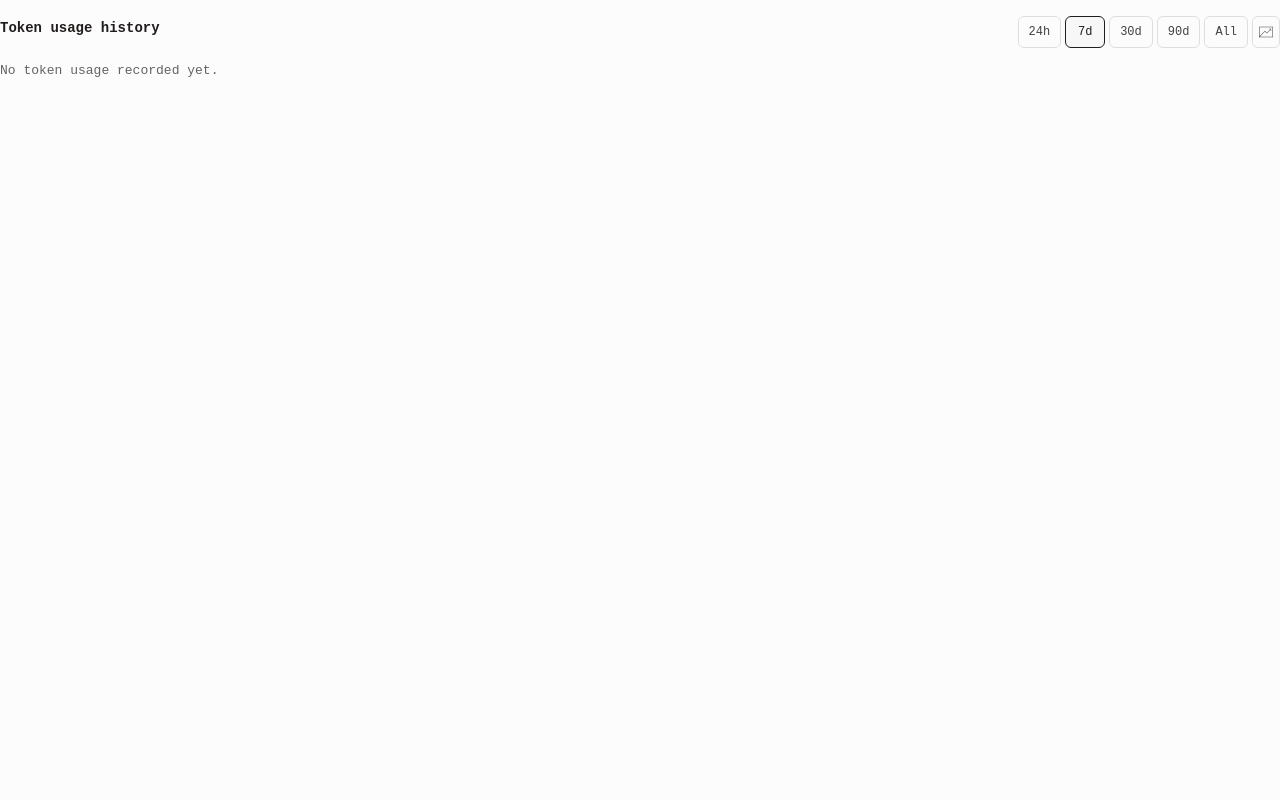
opens all-time statistics without changing the chart range and restores focus
The image size is (1280, 800).
Step 1. Click the button named "All-time statistics" → {"x": 1266, "y": 32}, box [1252,16,1279,48]
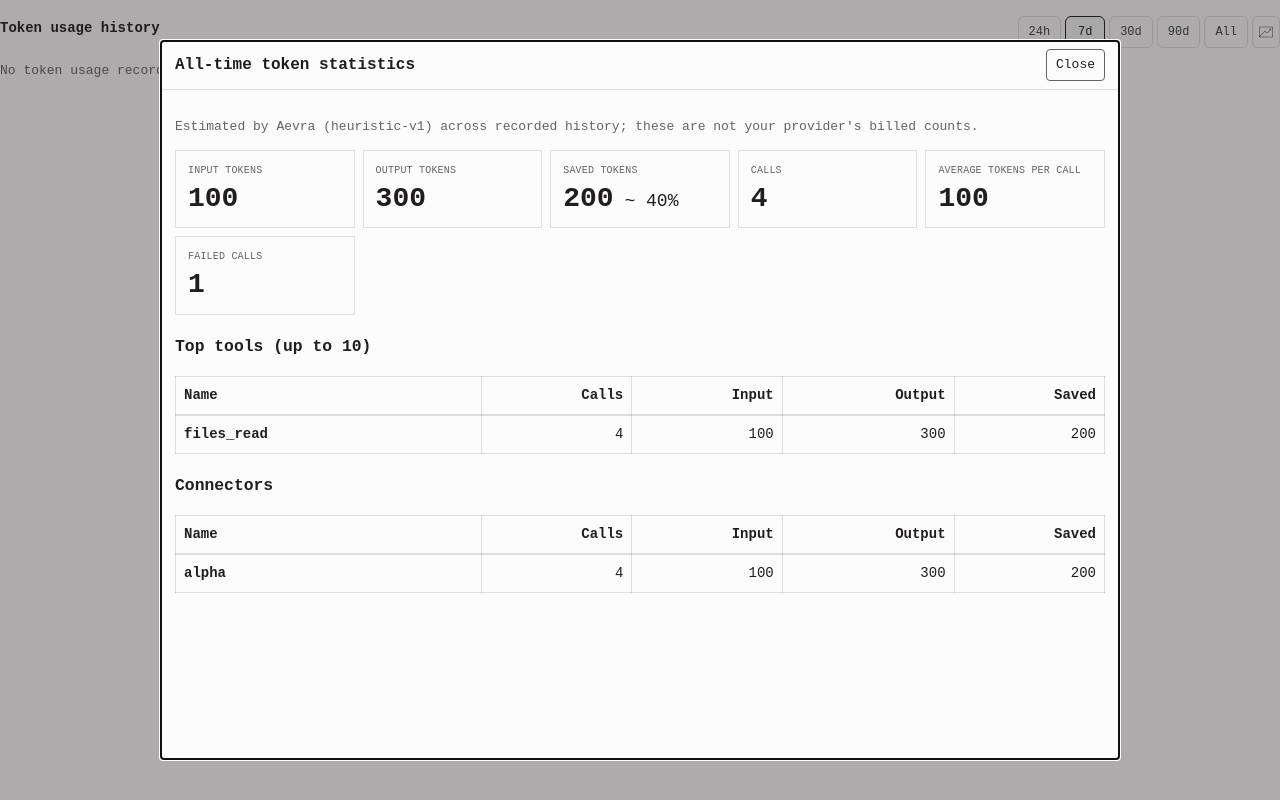
Expected: the column heading "files_read" is shown, [176,415,481,453]
Expected: the column heading "alpha" is shown, [176,554,481,592]
Expected: the element labelled "Input tokens" shows "100", [188,182,238,214]
Step 2. Press Escape
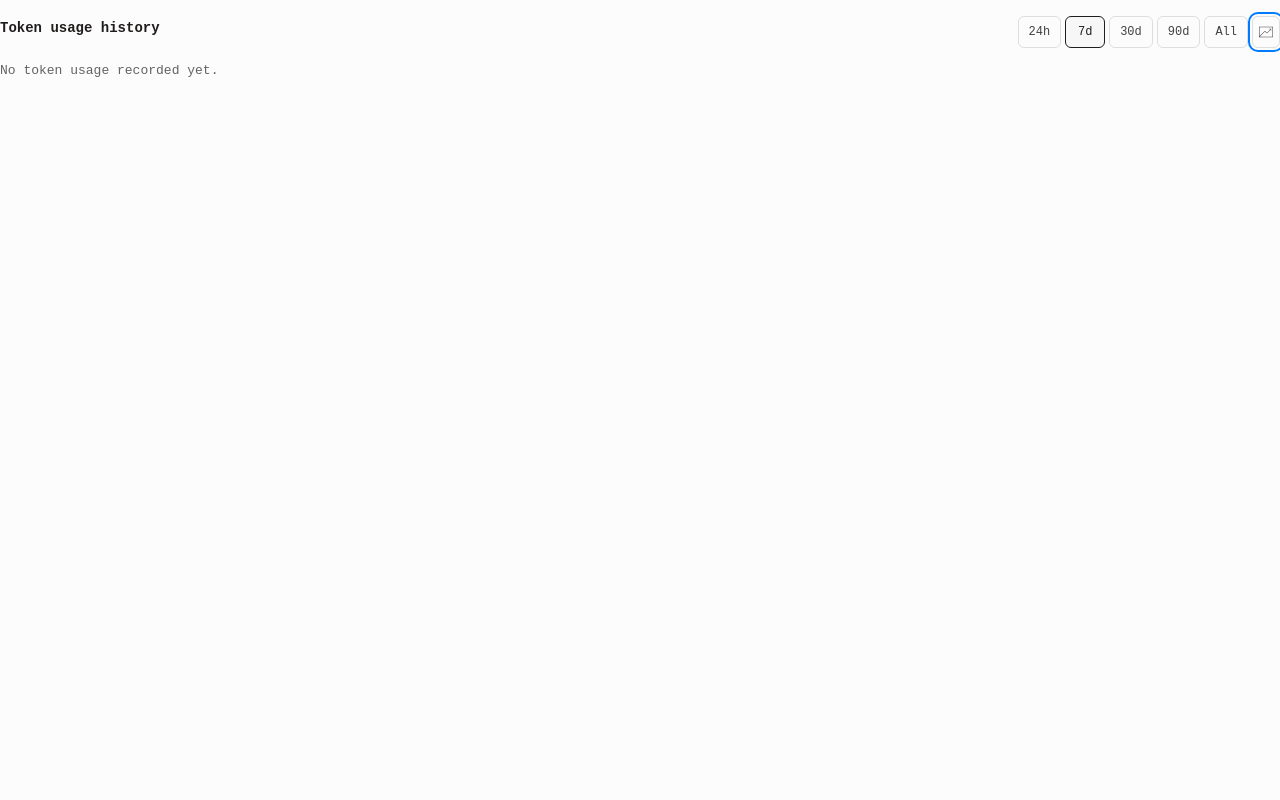
Expected: the dialog is gone
